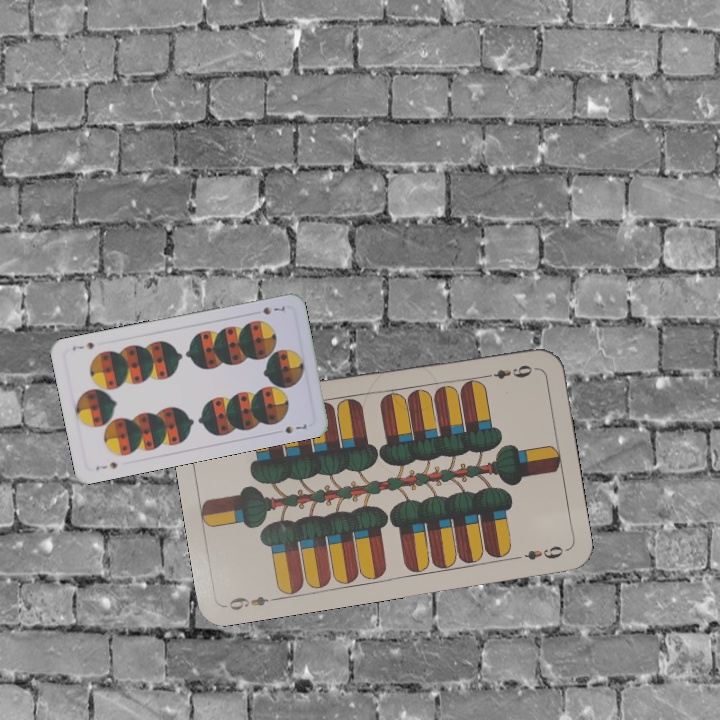E9: (479, 360, 535, 382), (225, 592, 281, 613)
S7: (259, 302, 288, 317), (92, 458, 120, 473)
